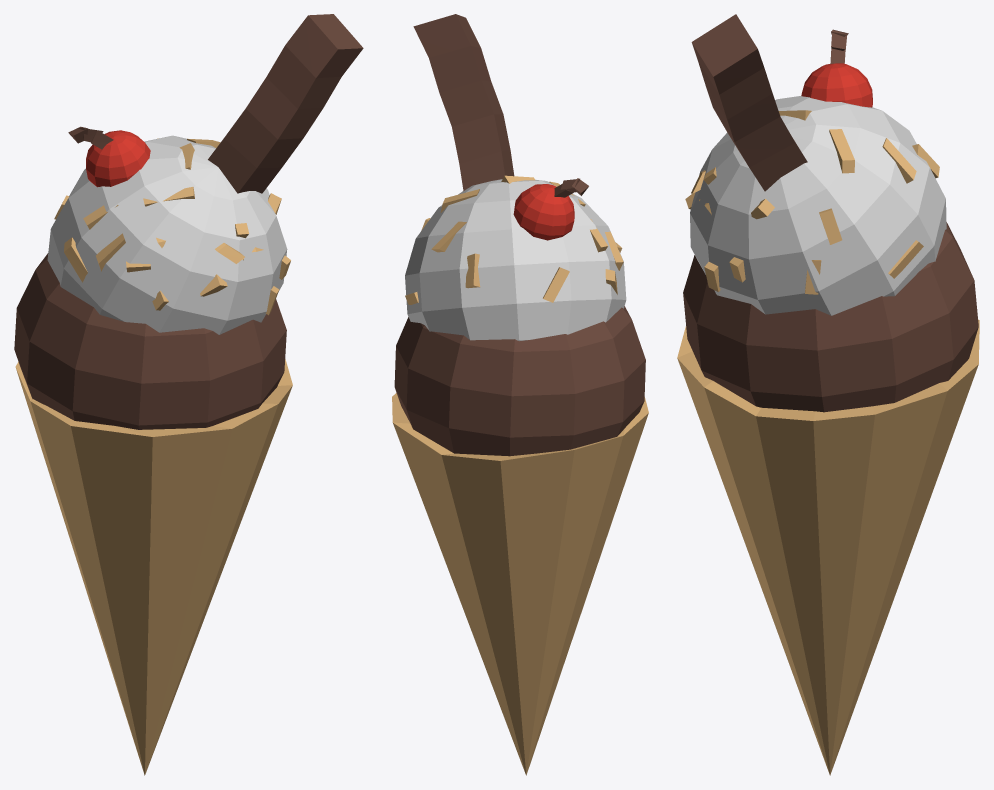
3 renders of one model, left to right at view 1: azimuth 30°, elevation 25°; view 2: azimuth 150°, elevation 25°; view 3: azimuth 270°, elevation 25°, orthographic. The views are drawn at different scales.
Parts seen in each view (by area): view 1: node_MeshObject576962560-PolyPaper14; view 2: node_MeshObject576962560-PolyPaper14; view 3: node_MeshObject576962560-PolyPaper14.
Part boxes in pixels (x1=…): node_MeshObject576962560-PolyPaper14: x1=14, y1=14, x2=363, y2=775; node_MeshObject576962560-PolyPaper14: x1=392, y1=14, x2=648, y2=775; node_MeshObject576962560-PolyPaper14: x1=677, y1=14, x2=979, y2=775.
Size of the model in its own units: 0.1851 by 0.4892 by 0.1626.
